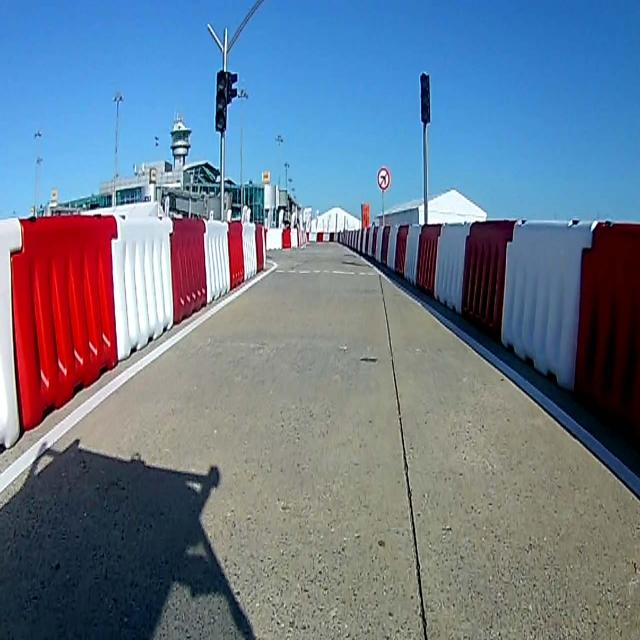soladonulmez: (377, 168, 391, 189)
